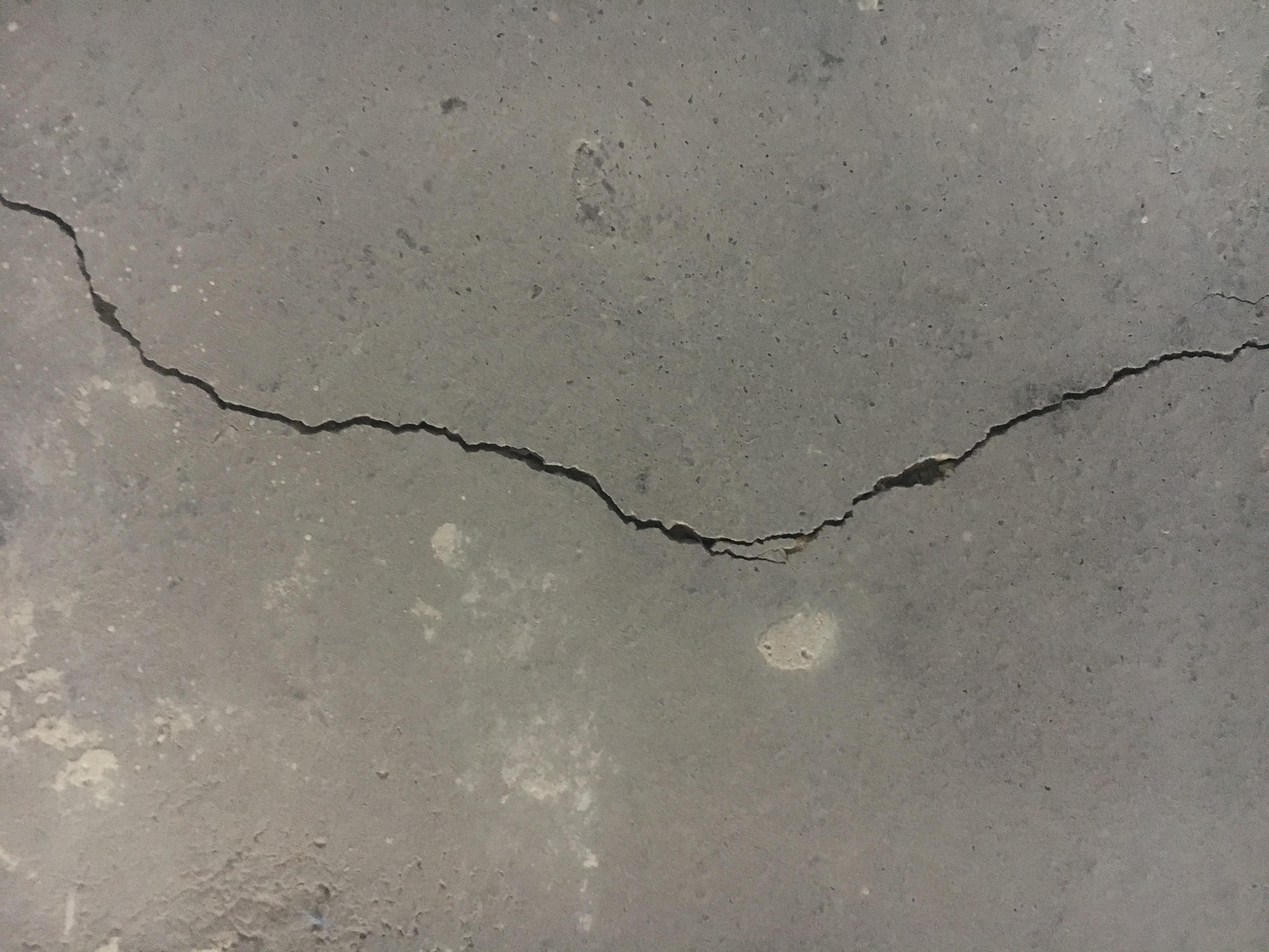Horizontal Settlement Crack: (3, 190, 1266, 566)
